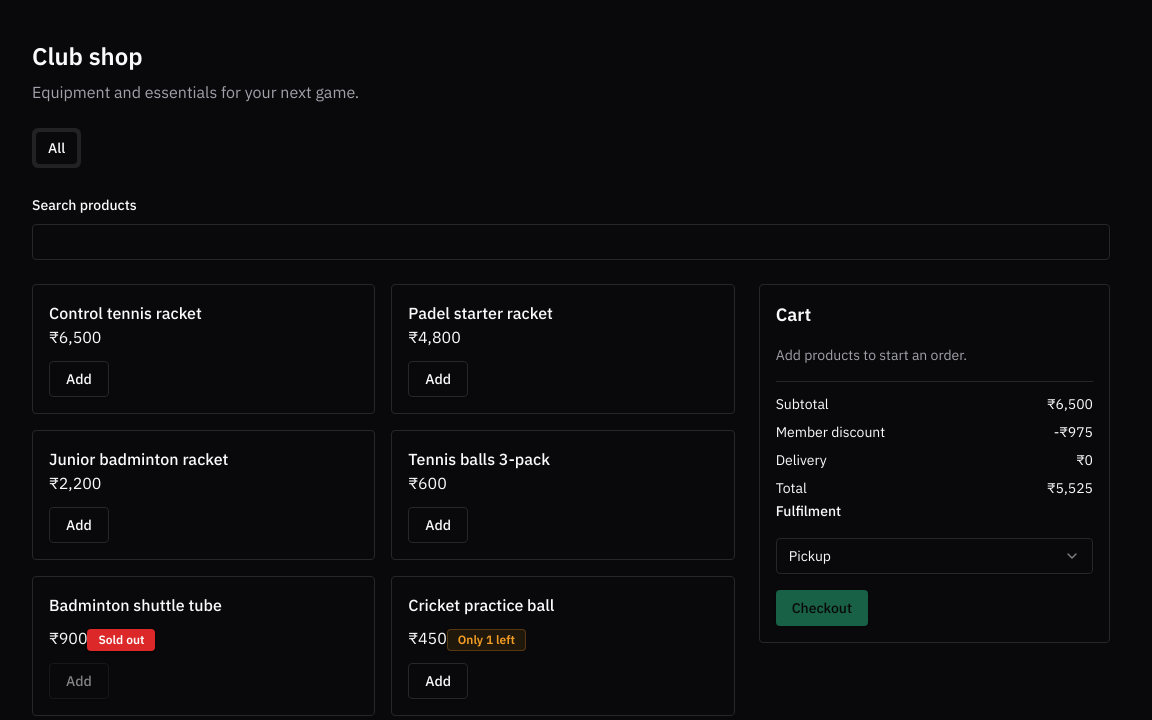
Test case: shop browser › keeps the dialog open with the reason when the order fails, and charges nothing
What coordinates should you click on to do the following:
click the button with aria-label "Add Control tennis racket"
I would click on:
 (79, 379)
Its box is [49,361,109,397].
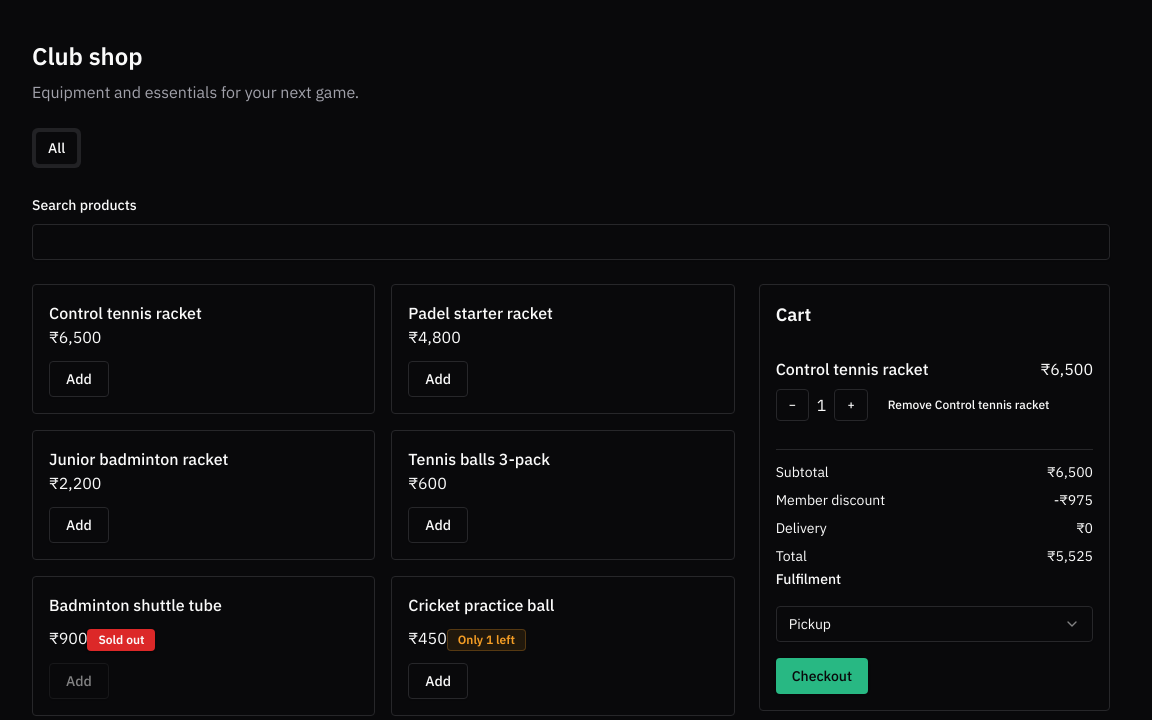
What coordinates should you click on to do the following:
click the button "Checkout"
I would click on:
 (822, 676)
Its box is [776,658,868,694].
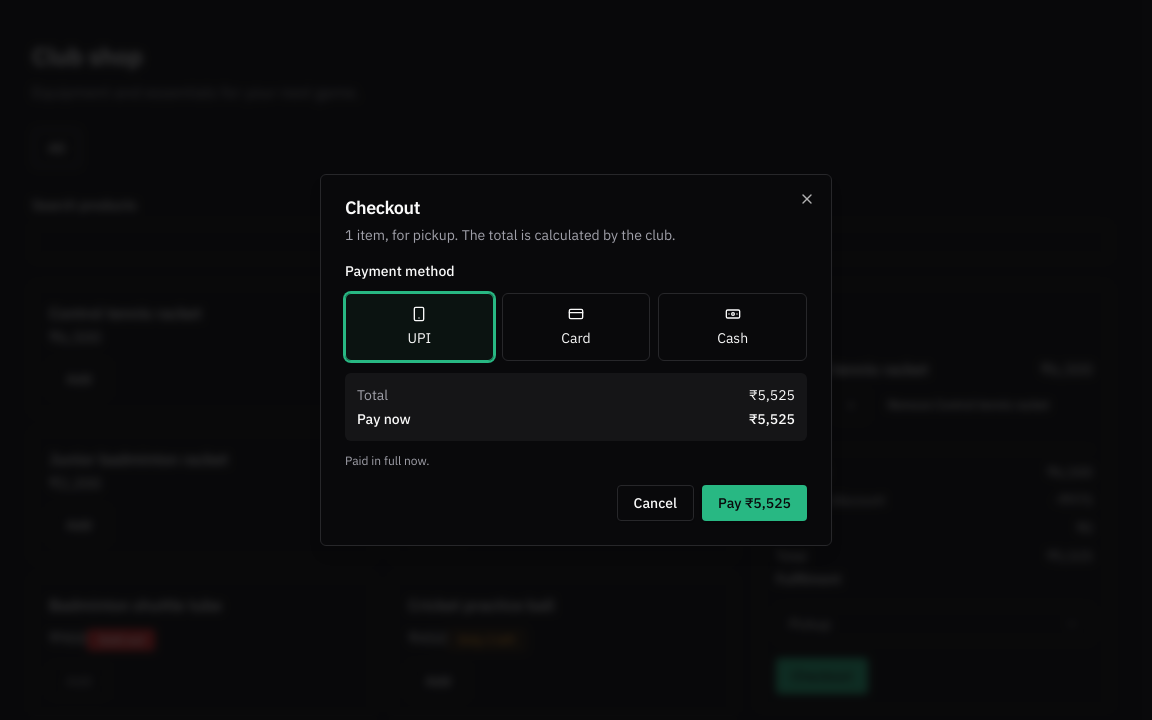
What coordinates should you click on to do the following:
click the button "Pay ₹5,525"
I would click on:
 (754, 503)
Its box is [702,485,807,521].
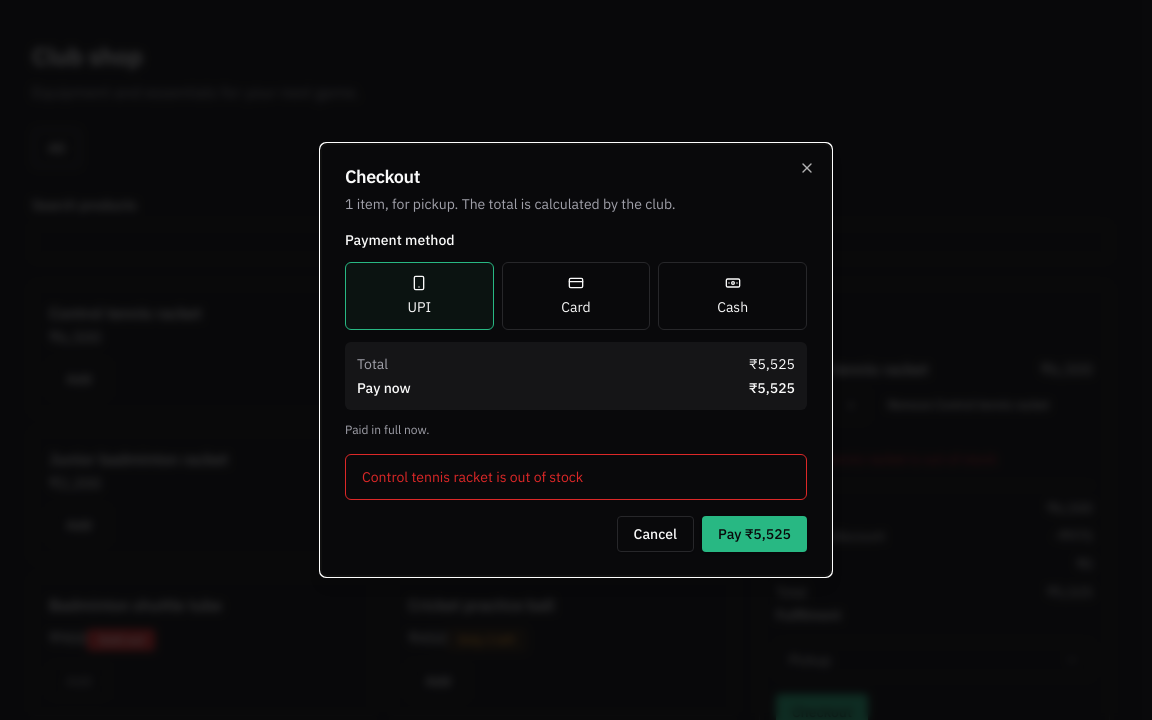
Now the dialog is shown, box [320,143,832,577]
Now the message shows "out of stock", box [362,468,583,486]
